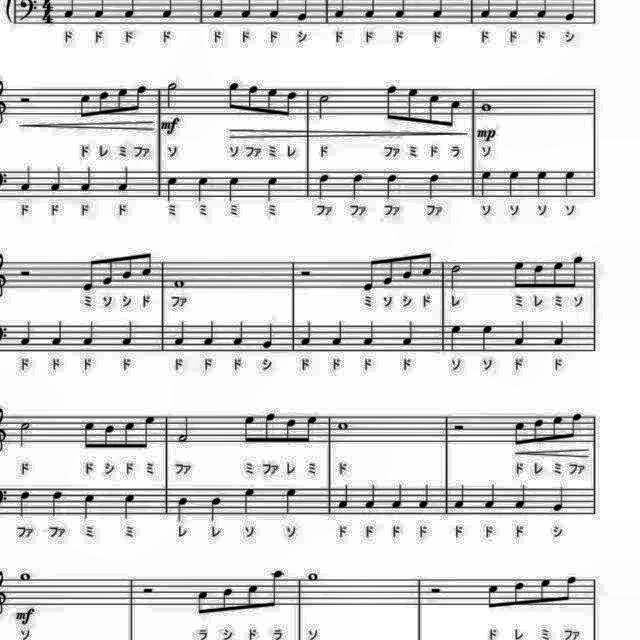Eighth-note: (266, 564, 286, 610), (382, 82, 400, 126), (424, 90, 442, 130), (139, 412, 157, 452), (81, 254, 99, 294), (359, 257, 377, 295), (484, 577, 504, 611), (406, 83, 422, 125), (81, 416, 99, 452), (510, 576, 530, 608), (560, 570, 580, 602), (508, 259, 526, 293), (446, 96, 464, 130), (194, 584, 213, 616), (568, 253, 584, 291), (566, 409, 584, 441), (263, 408, 279, 444), (217, 582, 235, 614), (74, 88, 92, 120), (238, 414, 256, 446), (380, 255, 396, 289), (266, 84, 282, 118), (243, 582, 260, 614), (226, 80, 242, 114), (550, 260, 566, 292), (550, 411, 566, 443), (118, 251, 134, 283), (244, 84, 260, 116), (120, 418, 136, 450), (113, 84, 129, 116), (536, 576, 552, 608), (100, 256, 116, 288), (282, 88, 298, 120), (133, 82, 149, 114), (96, 88, 112, 120), (138, 248, 154, 280), (530, 414, 546, 446), (304, 414, 320, 446), (418, 248, 434, 280), (512, 418, 528, 450), (102, 421, 118, 452), (400, 252, 416, 282), (530, 261, 546, 291), (282, 415, 298, 445)
Full-note: (336, 418, 352, 434), (171, 276, 189, 290), (480, 100, 496, 114), (18, 569, 34, 583), (306, 570, 322, 582)
Half-note: (175, 412, 193, 444), (163, 78, 180, 110), (15, 418, 32, 450), (316, 91, 332, 121), (448, 262, 464, 292)
Half-rest: (298, 265, 316, 283), (428, 584, 448, 598), (138, 584, 158, 598), (15, 267, 32, 281), (18, 93, 34, 107), (452, 420, 468, 432)
Quarter-note: (17, 488, 35, 520), (551, 482, 569, 514), (532, 166, 550, 198), (447, 322, 465, 354), (479, 323, 497, 355), (241, 484, 259, 516), (171, 319, 189, 349), (120, 319, 138, 349), (330, 319, 348, 349), (224, 177, 242, 207), (401, 319, 419, 349), (383, 171, 401, 201), (174, 494, 192, 524), (510, 322, 528, 351), (48, 488, 64, 520), (506, 166, 522, 198), (562, 167, 578, 199), (282, 485, 298, 517), (195, 176, 212, 206), (349, 171, 366, 201), (359, 319, 376, 349), (117, 164, 135, 192), (164, 174, 182, 202), (262, 322, 278, 353), (80, 492, 96, 522), (552, 319, 568, 349), (316, 171, 332, 201), (478, 168, 494, 198), (17, 320, 33, 350), (120, 492, 136, 522), (336, 481, 352, 511), (512, 483, 528, 513), (266, 173, 282, 203), (426, 170, 442, 200), (450, 483, 466, 513), (17, 163, 33, 193), (416, 481, 432, 511), (484, 483, 500, 513), (362, 483, 378, 513), (48, 164, 64, 194), (202, 319, 218, 349), (208, 496, 225, 524), (297, 322, 313, 351), (51, 322, 67, 351), (389, 482, 405, 511), (80, 164, 96, 192), (80, 322, 96, 350), (231, 320, 247, 348)
